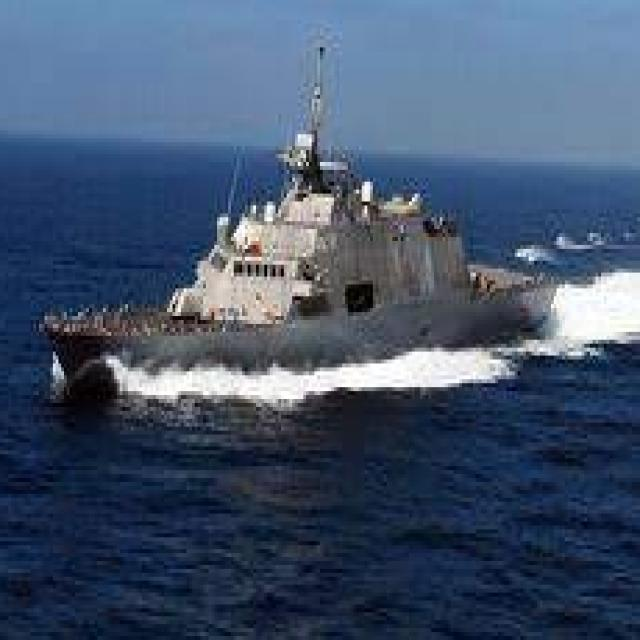navalvessels: (37, 61, 577, 410)
